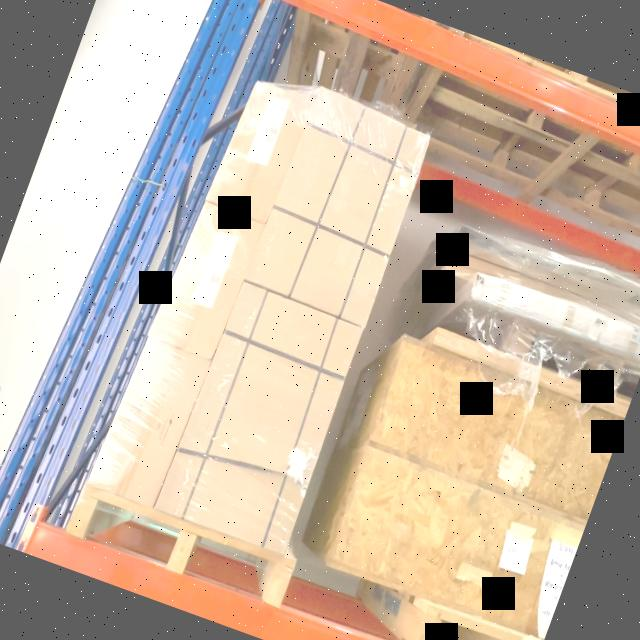box: (162, 284, 364, 552), (245, 91, 435, 325), (92, 341, 204, 504), (156, 204, 260, 358), (212, 80, 311, 222)
